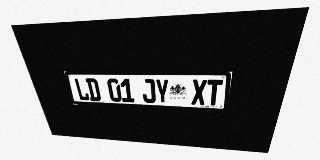0: (106, 78, 122, 102)
1: (119, 79, 134, 102)
D: (85, 78, 102, 101)
J: (141, 79, 156, 103)
L: (73, 78, 90, 101)
T: (206, 79, 223, 106)
X: (191, 79, 207, 105)
Y: (155, 79, 169, 104)
